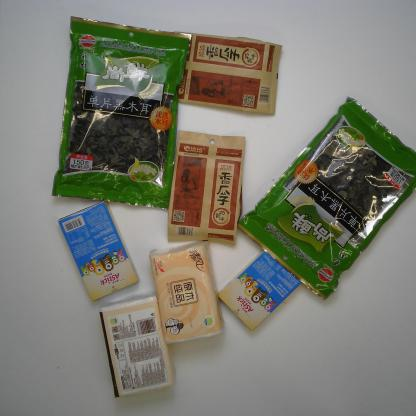Dessert: (56, 200, 141, 304), (216, 252, 302, 334)
Dried Food: (236, 95, 416, 305), (50, 13, 194, 212), (164, 129, 248, 247), (176, 30, 284, 114)
Tissue: (98, 292, 177, 399), (148, 241, 228, 346)
